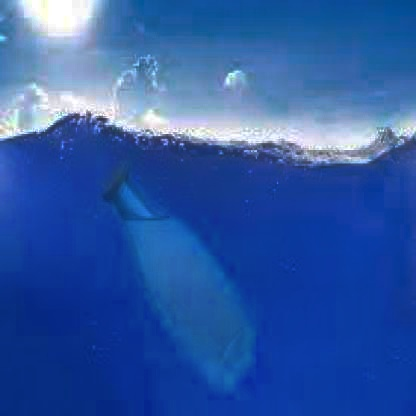gbottle: (93, 164, 262, 398)
